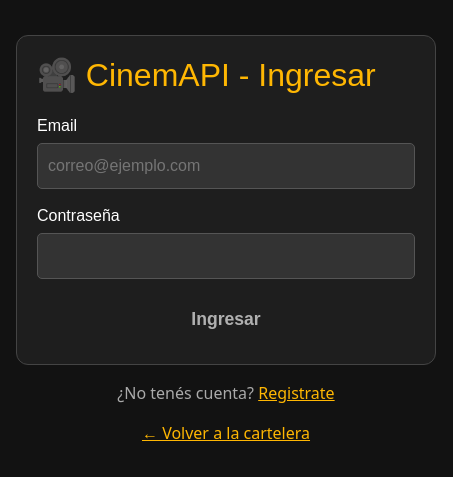
Test: Login › muestra un error claro si el servidor no responde
The width and height of the screenshot is (453, 477).
Type "cliente@cinemapi.com" into the field labelled "Email" at (226, 166), box [37,143,415,189]
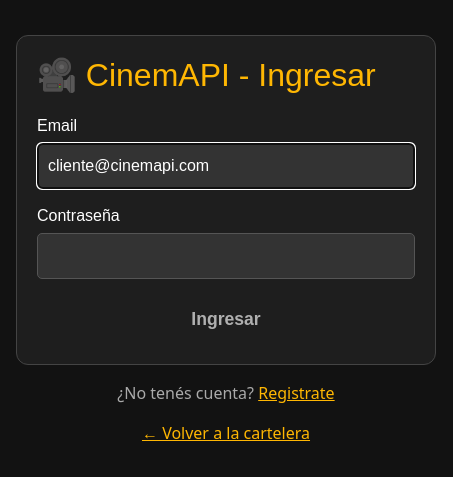
Type "clave-de-prueba" into the password field labelled "Contraseña" at (226, 256), box [37,233,415,279]
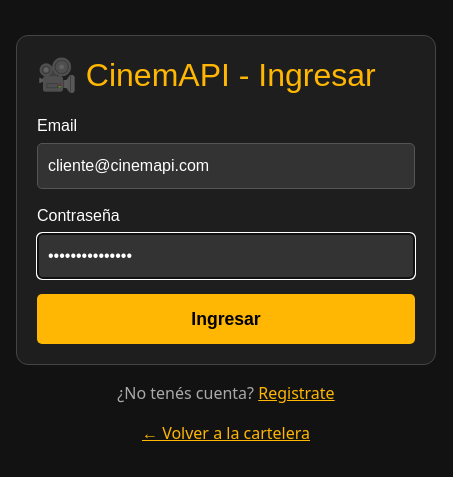
Click the button "Ingresar" at (226, 319), box [37,294,415,344]
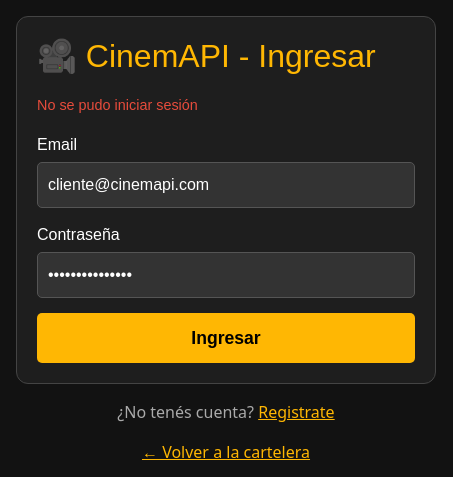
Now the button "Ingresar" is enabled, box [37,313,415,363]
Now the text "No se pudo iniciar sesión" is shown, box [37,97,198,113]
